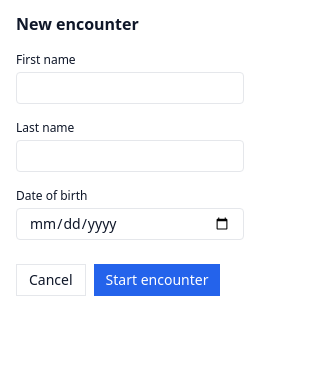
StartEncounterPage › validates required fields on empty submit
The width and height of the screenshot is (320, 377).
What coordinates should you click on to do the following:
click the button "Start encounter"
I would click on:
 (157, 280)
Its box is [94,264,220,296].
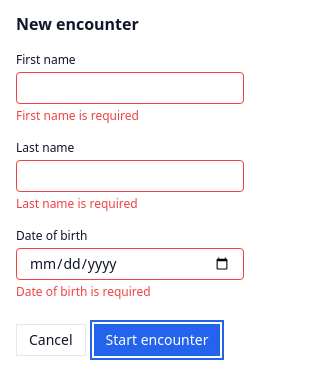
Expected: the text "First name is required" is shown, [16,107,139,124]
Expected: the text "Last name is required" is shown, [16,195,138,212]
Expected: the text "Date of birth is required" is shown, [16,283,151,300]
